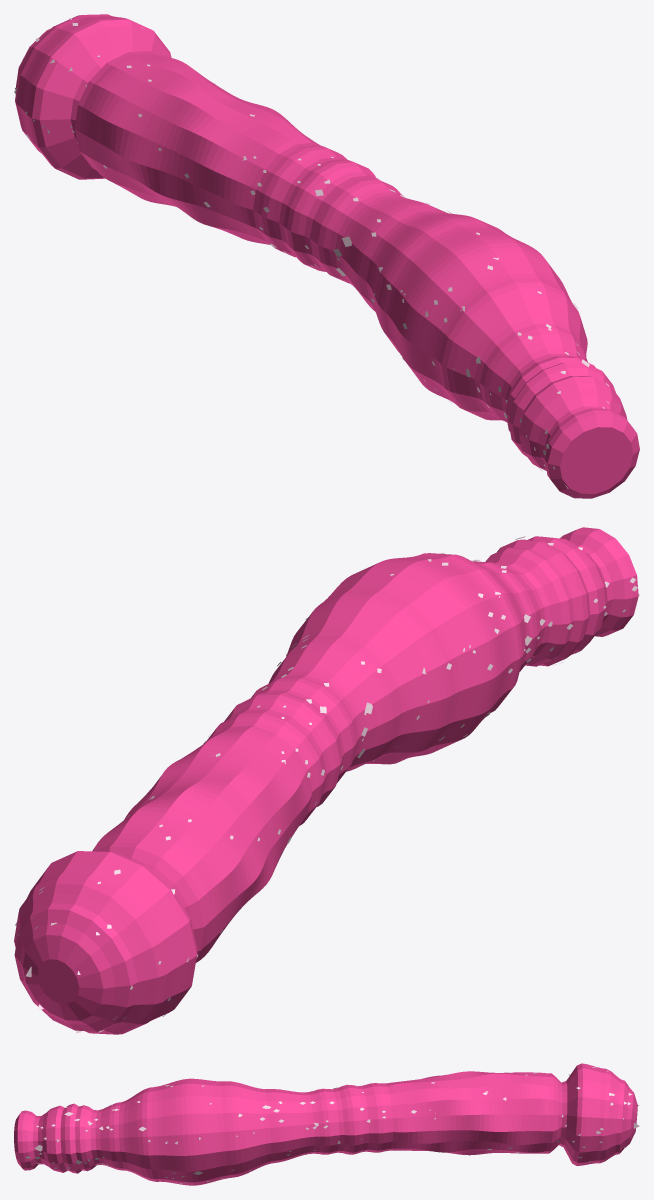
File: jelly_club.glb
3 renders of one model, top to bottom at view 1: azimuth 30°, elevation 25°; view 2: azimuth 150°, elevation 25°; view 3: azimuth 270°, elevation 25°, orthographic. The views are drawn at different scales.
Visible parts, largest first — view 1: jelly_club; view 2: jelly_club; view 3: jelly_club.
Boxes of the visible parts, x1,y1,x2,y2 form: jelly_club: (14, 14, 639, 498); jelly_club: (14, 527, 639, 1034); jelly_club: (14, 1063, 639, 1185).
Bounding box in the file's own units: 0.287 × 0.2078 × 1.22.
